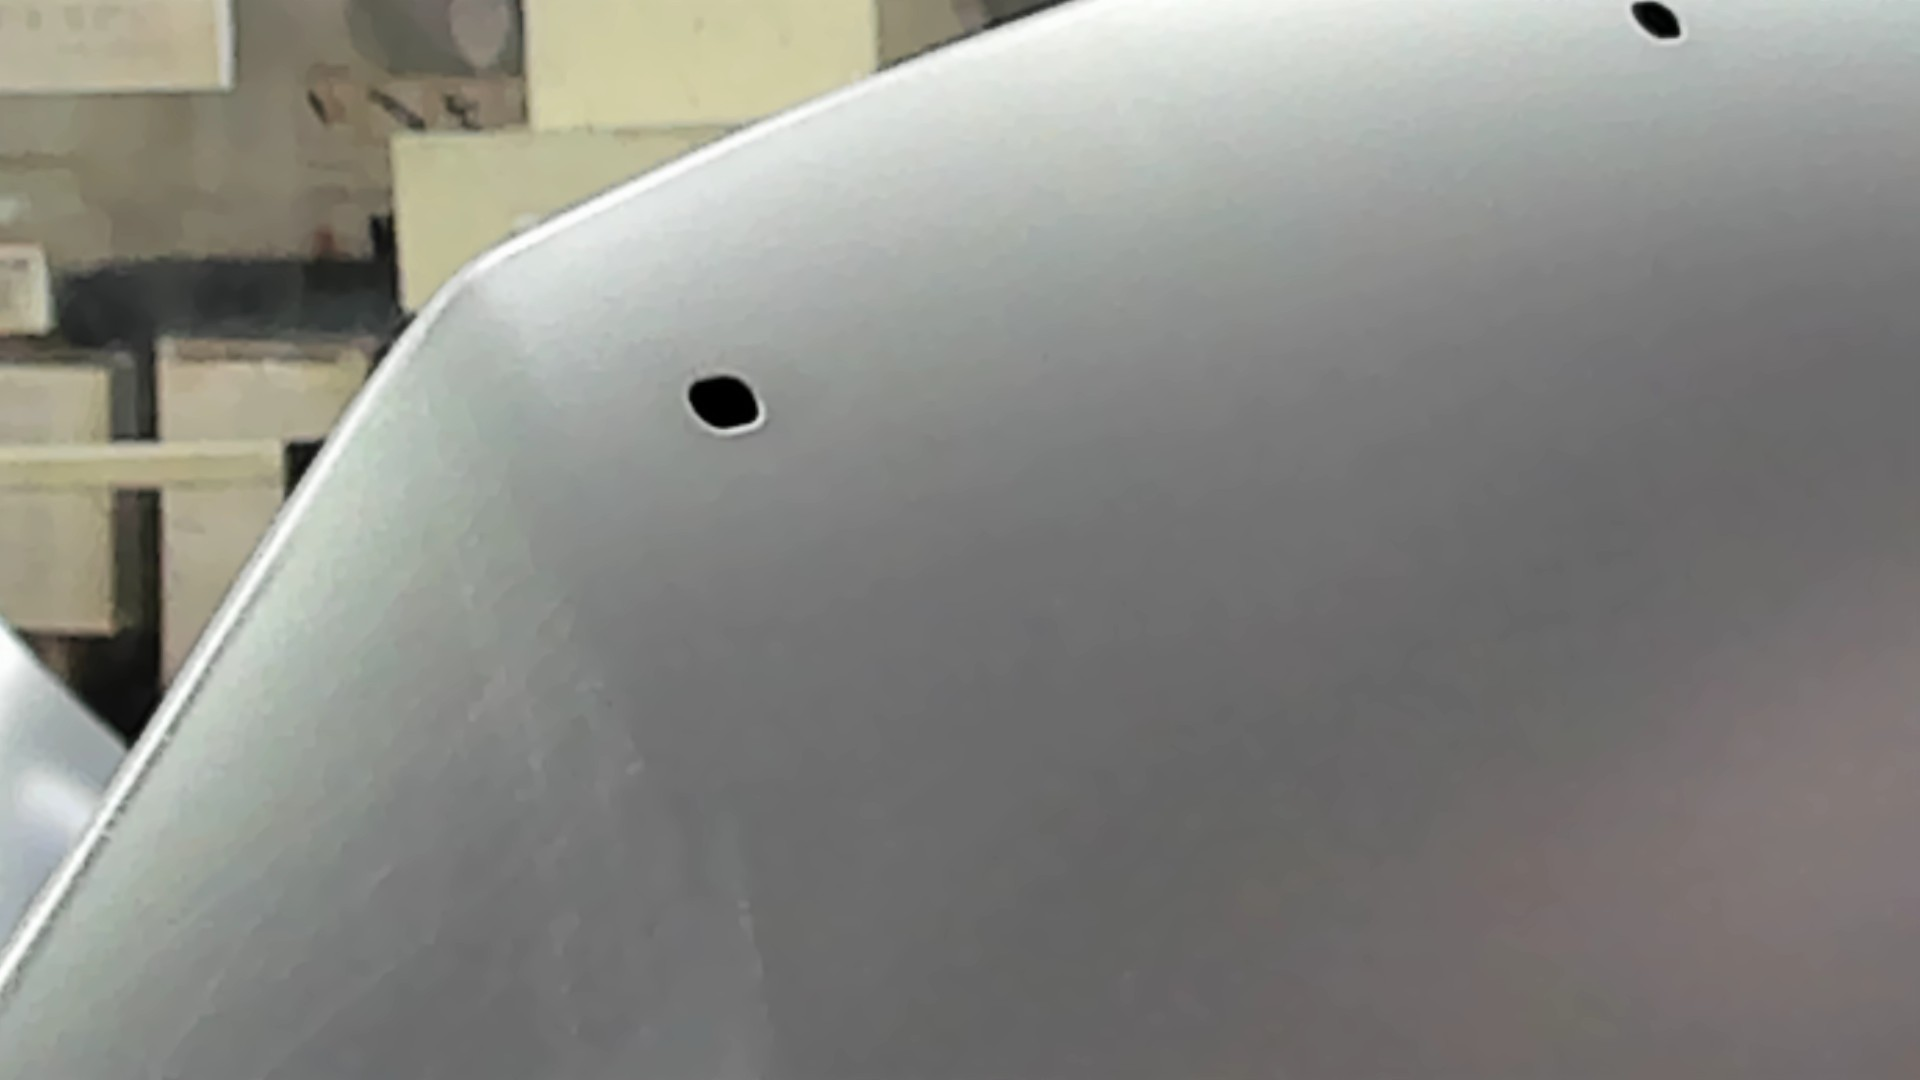amorfo: (675, 368, 773, 440), (1625, 1, 1687, 47)
capo: (815, 141, 1920, 1080)
